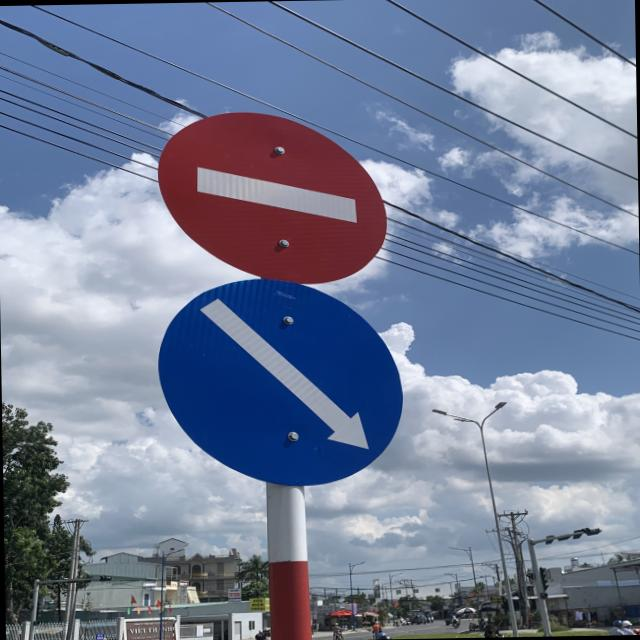Cam_Di_Nguoc_Chieu: (156, 108, 388, 284)
Chi_Huong_Di_Phai: (158, 277, 406, 490)
